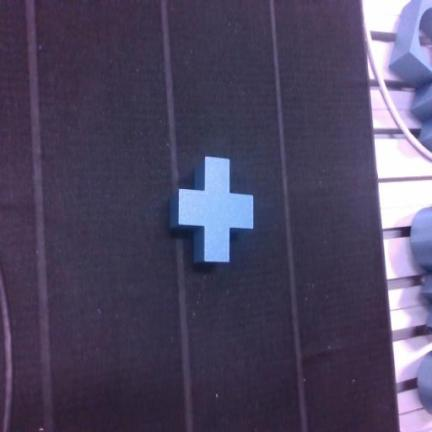cross: (171, 157, 253, 262)
